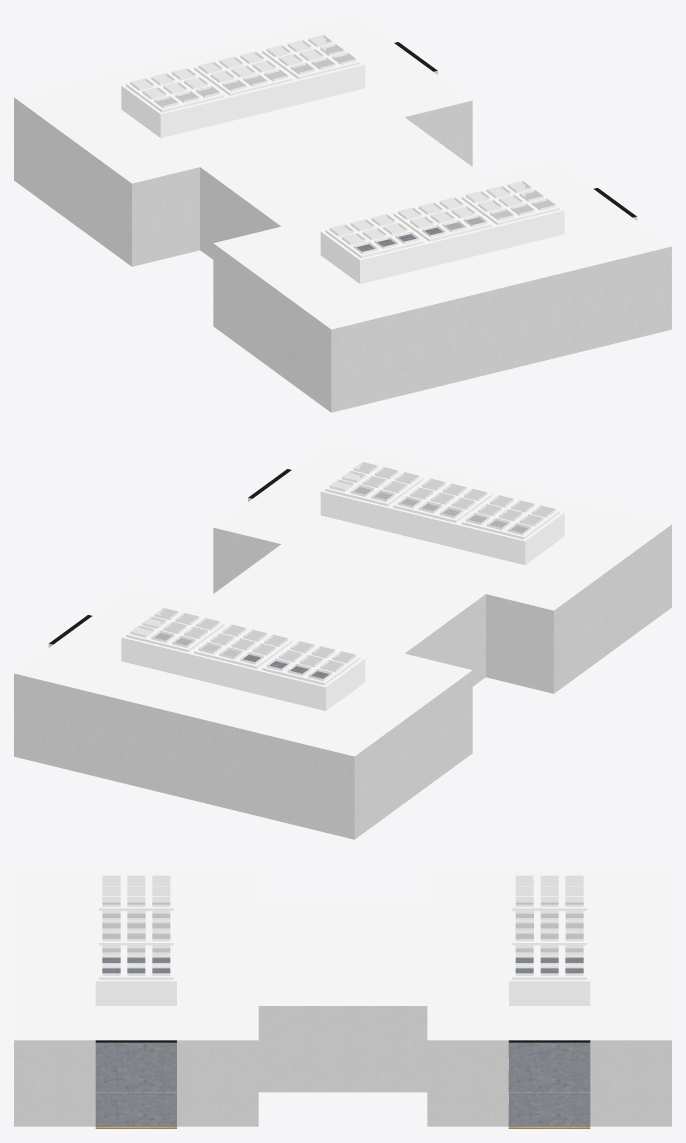
The model's file is artGallery-modular_west_white_long.glb.
3 views of the same model, one above another, from view 1: azimuth 30°, elevation 25°; view 2: azimuth 150°, elevation 25°; view 3: azimuth 270°, elevation 25° (orthographic). The views are drawn at different scales.
Visible parts, largest first — view 1: HallWestLong_Ceiling, HallNorthwestLong_Ceiling, HallWestLong_Walls, HallNorthwestLong_Walls, HallWestLong_Connector_Ceiling, HallNorthwestLong_Connector_Ceiling, HallNorthwestLong_Connector_Walls, HallWestLong_Connector_Walls; view 2: HallWestLong_Ceiling, HallNorthwestLong_Ceiling, HallNorthwestLong_Walls, HallWestLong_Walls, HallWestLong_Connector_Ceiling, HallNorthwestLong_Connector_Ceiling, HallWestLong_Connector_Walls, HallNorthwestLong_Connector_Walls; view 3: HallWestLong_Ceiling, HallNorthwestLong_Ceiling, HallWestLong_Walls, HallNorthwestLong_Walls, HallWestLong_Connector_Ceiling, HallNorthwestLong_Connector_Ceiling, HallNorthwestLong_Floor, HallWestLong_Floor, HallWestLong_Connector_Walls, HallNorthwestLong_Connector_Walls.
Part boxes in pixels (bbox=[...]): HallWestLong_Ceiling: bbox=[213, 160, 671, 329]; HallNorthwestLong_Ceiling: bbox=[14, 14, 472, 183]; HallWestLong_Walls: bbox=[213, 206, 671, 412]; HallNorthwestLong_Walls: bbox=[14, 60, 472, 266]; HallWestLong_Connector_Ceiling: bbox=[241, 147, 485, 226]; HallNorthwestLong_Connector_Ceiling: bbox=[200, 117, 444, 196]; HallNorthwestLong_Connector_Walls: bbox=[200, 167, 240, 259]; HallWestLong_Connector_Walls: bbox=[240, 197, 484, 236]; HallWestLong_Ceiling: bbox=[213, 441, 671, 610]; HallNorthwestLong_Ceiling: bbox=[14, 587, 472, 756]; HallNorthwestLong_Walls: bbox=[14, 633, 472, 839]; HallWestLong_Walls: bbox=[213, 487, 671, 693]; HallWestLong_Connector_Ceiling: bbox=[241, 544, 485, 623]; HallNorthwestLong_Connector_Ceiling: bbox=[200, 574, 444, 653]; HallWestLong_Connector_Walls: bbox=[445, 594, 485, 686]; HallNorthwestLong_Connector_Walls: bbox=[201, 624, 445, 663]; HallWestLong_Ceiling: bbox=[14, 868, 258, 1042]; HallNorthwestLong_Ceiling: bbox=[427, 868, 671, 1042]; HallWestLong_Walls: bbox=[14, 902, 258, 1126]; HallNorthwestLong_Walls: bbox=[427, 902, 671, 1126]; HallWestLong_Connector_Ceiling: bbox=[258, 902, 342, 1005]; HallNorthwestLong_Connector_Ceiling: bbox=[343, 902, 427, 1005]; HallNorthwestLong_Floor: bbox=[508, 957, 590, 1128]; HallWestLong_Floor: bbox=[95, 957, 176, 1128]; HallWestLong_Connector_Walls: bbox=[258, 1006, 342, 1092]; HallNorthwestLong_Connector_Walls: bbox=[343, 1006, 427, 1092].
Size of the model in its own units: 15.2 by 4.7 by 24.2.
Materials: 2 (2 with a texture image).
